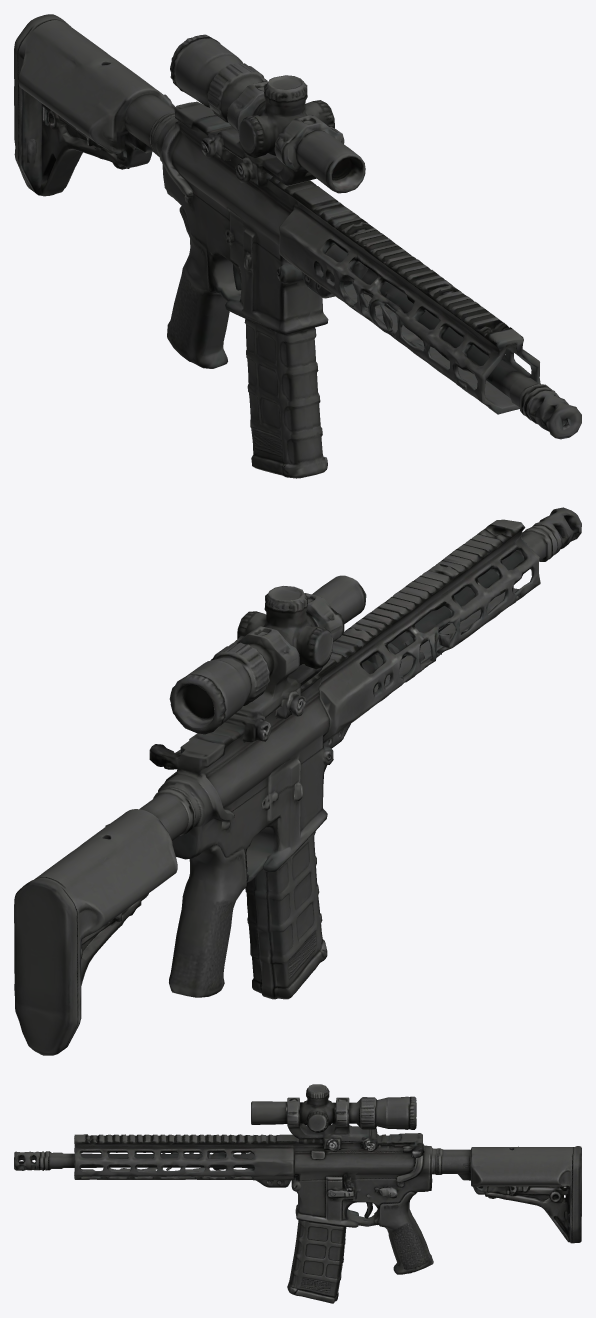
The model's file is rifle_viper.glb.
3 renders of one model, top to bottom at view 1: azimuth 30°, elevation 25°; view 2: azimuth 150°, elevation 25°; view 3: azimuth 270°, elevation 25°, orthographic. The views are drawn at different scales.
Parts seen in each view (by area): view 1: tripo_node_c50bfac1-4a7c-4a67-a833-22a6e4436319; view 2: tripo_node_c50bfac1-4a7c-4a67-a833-22a6e4436319; view 3: tripo_node_c50bfac1-4a7c-4a67-a833-22a6e4436319.
Part boxes in pixels (x1,y1,x2,y2): tripo_node_c50bfac1-4a7c-4a67-a833-22a6e4436319: [14, 14, 581, 478]; tripo_node_c50bfac1-4a7c-4a67-a833-22a6e4436319: [14, 507, 581, 1055]; tripo_node_c50bfac1-4a7c-4a67-a833-22a6e4436319: [14, 1084, 581, 1303].
Bounding box in the file's own units: 0.096 × 0.412 × 1.
1 material, 1 textured.
